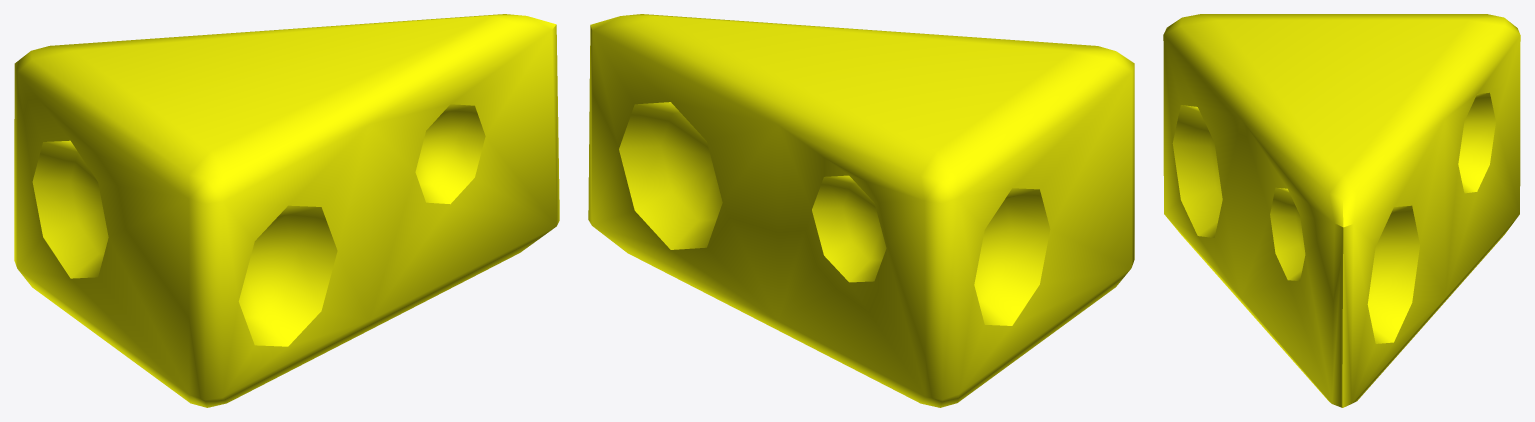
Rendered from kaykit-food-ingredient-cheese.glb.
3 views of the same model, side by side, from view 1: azimuth 30°, elevation 25°; view 2: azimuth 150°, elevation 25°; view 3: azimuth 270°, elevation 25° (orthographic). The views are drawn at different scales.
Parts seen in each view (by area): view 1: food_ingredient_cheese; view 2: food_ingredient_cheese; view 3: food_ingredient_cheese.
Part boxes in pixels (bbox=[...]): food_ingredient_cheese: bbox=[14, 14, 559, 407]; food_ingredient_cheese: bbox=[588, 14, 1134, 407]; food_ingredient_cheese: bbox=[1163, 14, 1520, 407].
Bounding box in the file's own units: 0.9766 × 0.5001 × 0.7219.
